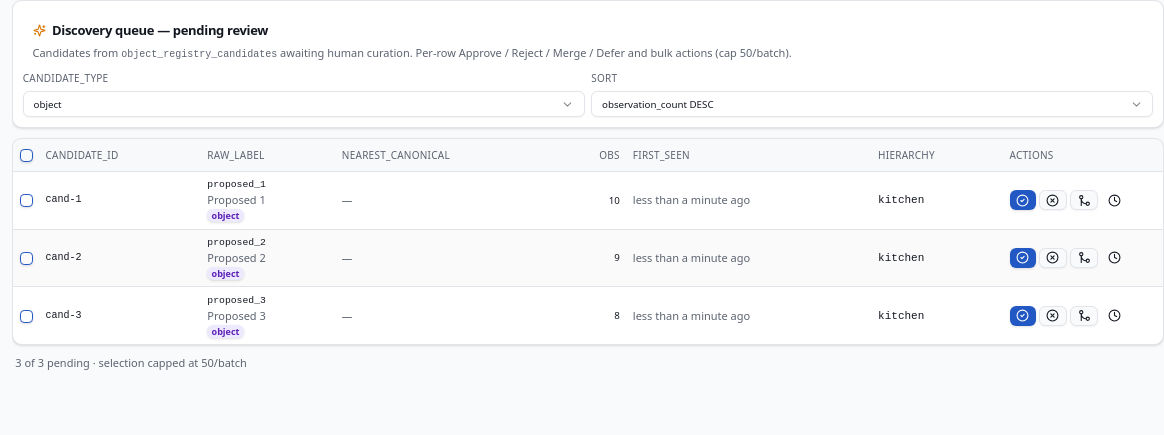
Test: ObjectRegistryDiscoveryQueueTab › bulk select-all toggles all visible rows
The width and height of the screenshot is (1164, 435).
Click the checkbox with test id "bulk-select-all".
click(26, 155)  # box [20,148,32,162]
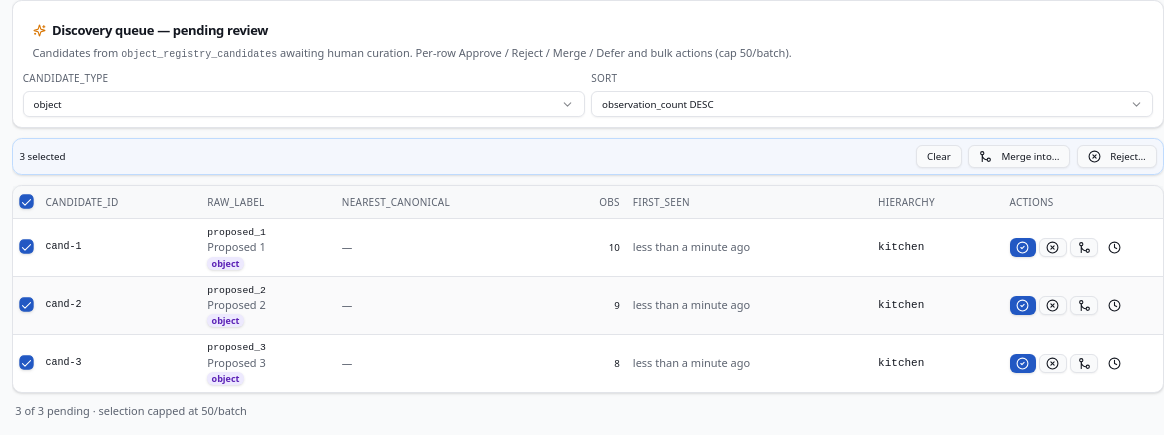
Result: the text with test id "bulk-count" reads "3 selected" at [20,150,66,163]
